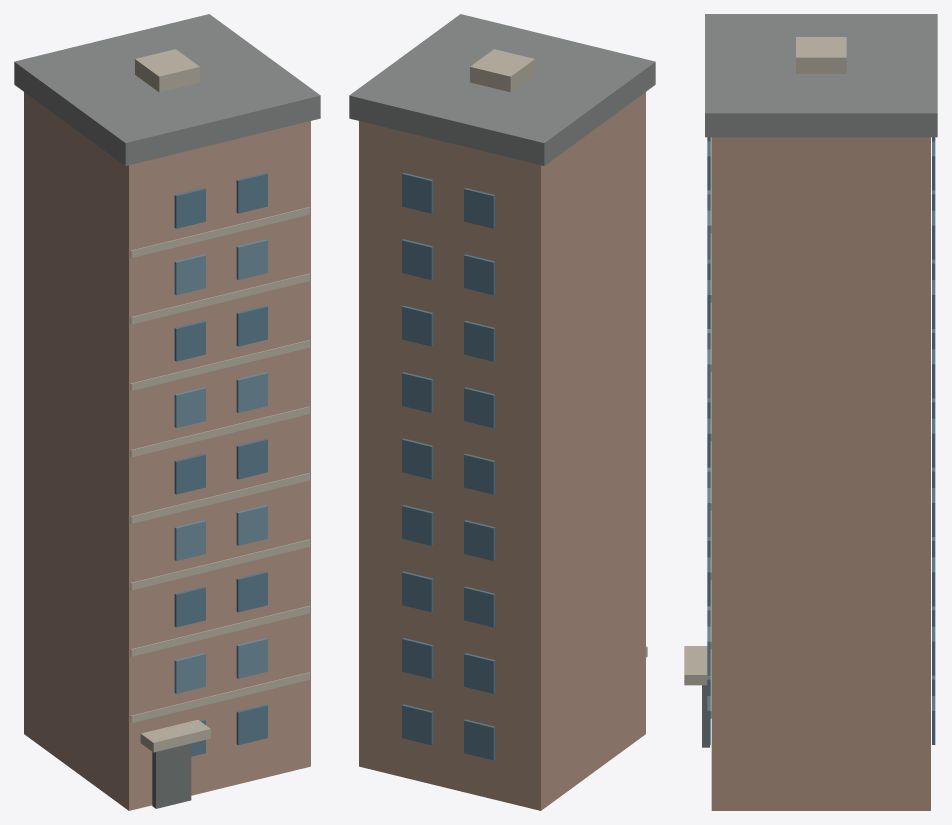
Rendered from house_brick_1x1.glb.
3 views of the same model, side by side, from view 1: azimuth 30°, elevation 25°; view 2: azimuth 150°, elevation 25°; view 3: azimuth 270°, elevation 25° (orthographic). The views are drawn at different scales.
Visible parts, largest first — view 1: house_brick_1x1; view 2: house_brick_1x1; view 3: house_brick_1x1.
Part boxes in pixels (x1,y1,x2,y2): house_brick_1x1: (14,14,320,810); house_brick_1x1: (349,14,655,810); house_brick_1x1: (684,14,937,810).
Bounding box in the file's own units: 1.69 × 5.69 × 1.82.
